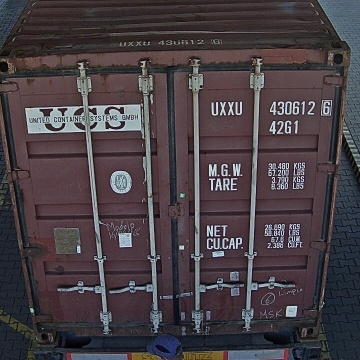serial_id: (211, 100, 331, 115)
